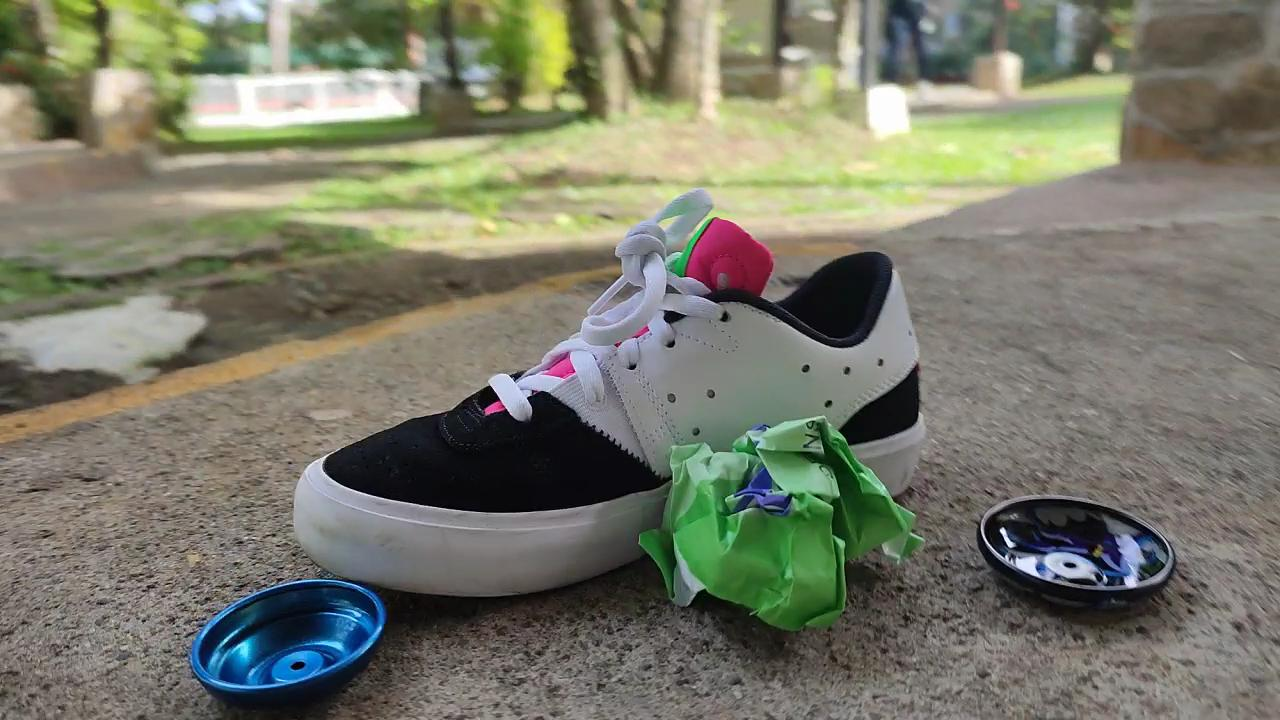Paper: (633, 387, 927, 638)
